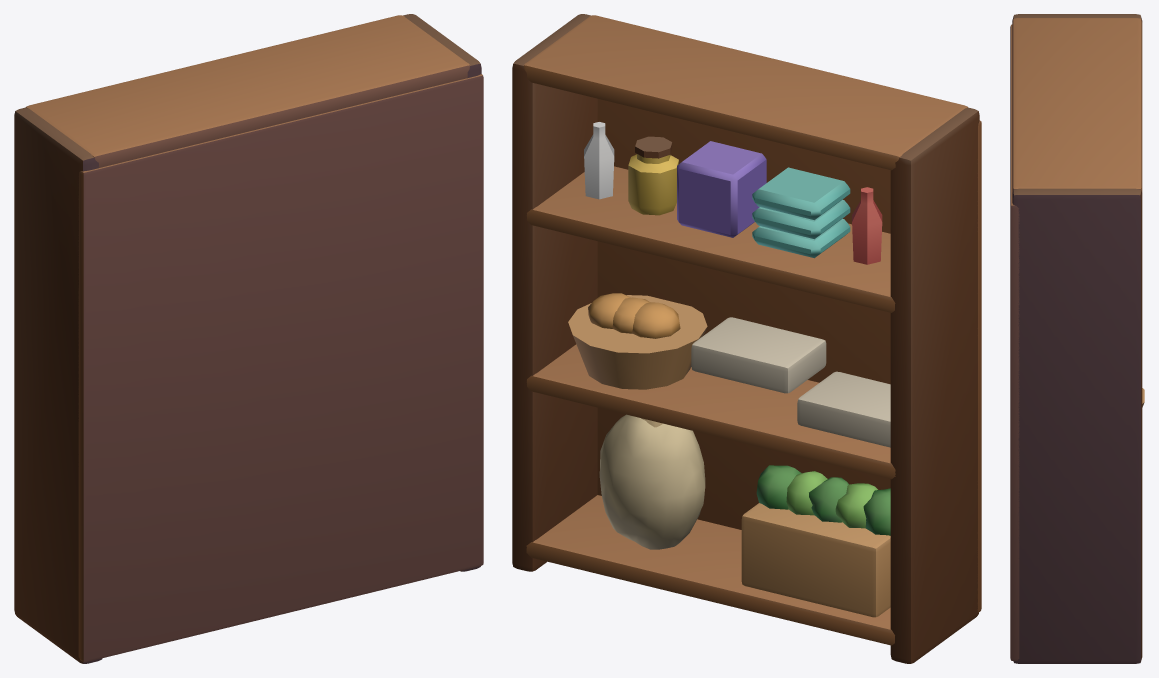
Rendered from Pantry.fbx.
3 renders of one model, left to right at view 1: azimuth 30°, elevation 25°; view 2: azimuth 150°, elevation 25°; view 3: azimuth 270°, elevation 25°, orthographic. The views are drawn at different scales.
Parts seen in each view (by area): view 1: SM_Kitchen_Pantry; view 2: SM_Kitchen_Pantry; view 3: SM_Kitchen_Pantry.
Boxes of the visible parts, x1,y1,x2,y2 form: SM_Kitchen_Pantry: [14, 14, 483, 663]; SM_Kitchen_Pantry: [512, 14, 981, 663]; SM_Kitchen_Pantry: [1010, 14, 1144, 663].
Size of the model in its own units: 5.3 by 6.41 by 1.65.
